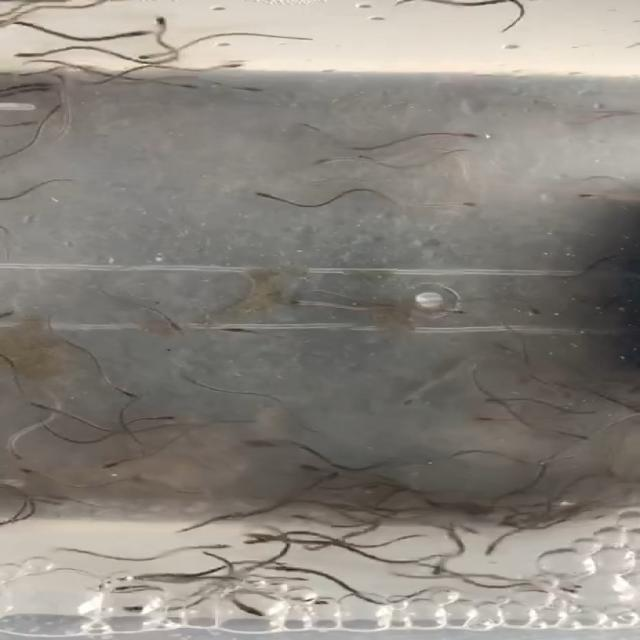active_glass_eel: (394, 386, 434, 408), (246, 188, 295, 205), (240, 532, 284, 550), (446, 126, 496, 141), (10, 48, 54, 65), (142, 14, 174, 36), (218, 80, 262, 96), (428, 554, 460, 576), (208, 58, 248, 75), (115, 603, 166, 616), (288, 594, 334, 608), (192, 538, 234, 553), (160, 311, 184, 337), (30, 396, 64, 414), (232, 600, 268, 617), (136, 48, 174, 64), (39, 103, 71, 122), (311, 154, 354, 168), (427, 305, 472, 318), (143, 410, 183, 424), (549, 578, 589, 592), (102, 458, 147, 470), (121, 383, 148, 402), (287, 461, 323, 475), (7, 438, 26, 464), (310, 470, 345, 484), (481, 538, 503, 560), (113, 30, 161, 40), (440, 198, 480, 209), (15, 117, 44, 132), (540, 585, 576, 597), (12, 466, 47, 478), (288, 296, 322, 308), (221, 326, 266, 335), (523, 304, 554, 317), (16, 87, 60, 96), (565, 430, 594, 443), (579, 189, 611, 200), (168, 79, 198, 90), (479, 396, 516, 404), (479, 415, 504, 424)
